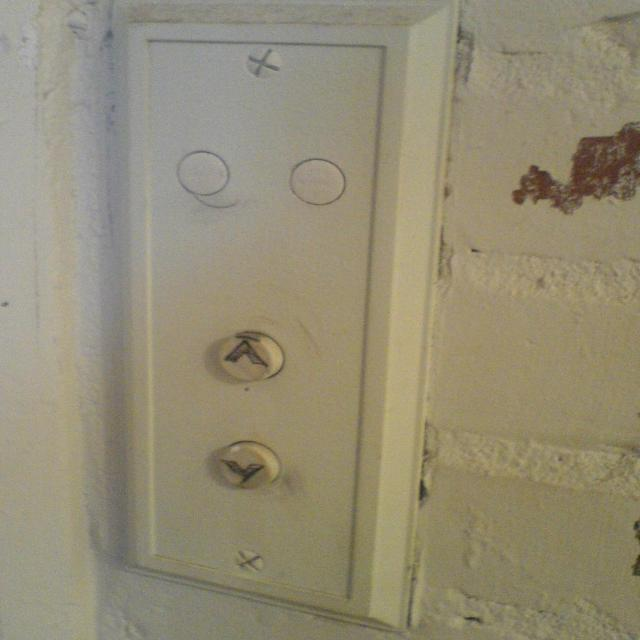down: (209, 435, 287, 494)
empty: (169, 146, 235, 199), (283, 154, 349, 207)
up: (210, 327, 288, 385)
